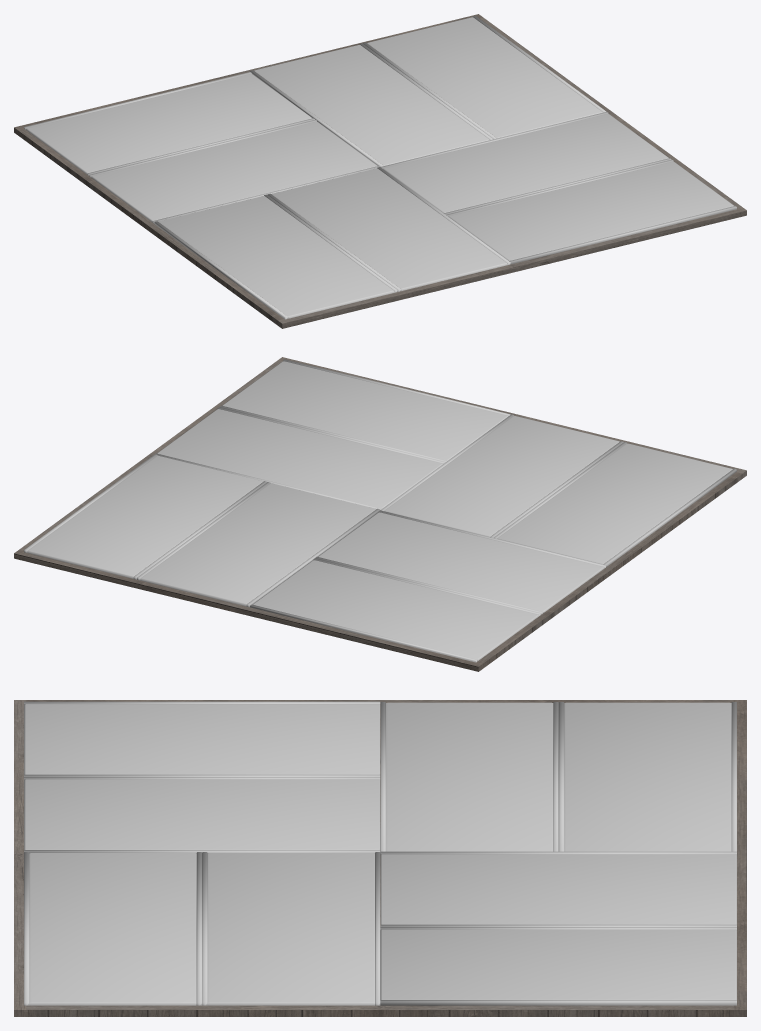
Rendered from jov_tatami_8ta.fbx.
3 views of the same model, one above another, from view 1: azimuth 30°, elevation 25°; view 2: azimuth 150°, elevation 25°; view 3: azimuth 270°, elevation 25° (orthographic). The views are drawn at different scales.
Visible parts, largest first — view 1: jov_tatami_8ta; view 2: jov_tatami_8ta; view 3: jov_tatami_8ta.
Part boxes in pixels (bbox=[...]): jov_tatami_8ta: bbox=[14, 14, 746, 328]; jov_tatami_8ta: bbox=[14, 357, 746, 671]; jov_tatami_8ta: bbox=[14, 700, 746, 1016].
Size of the model in its own units: 440 by 6.98 by 440.
